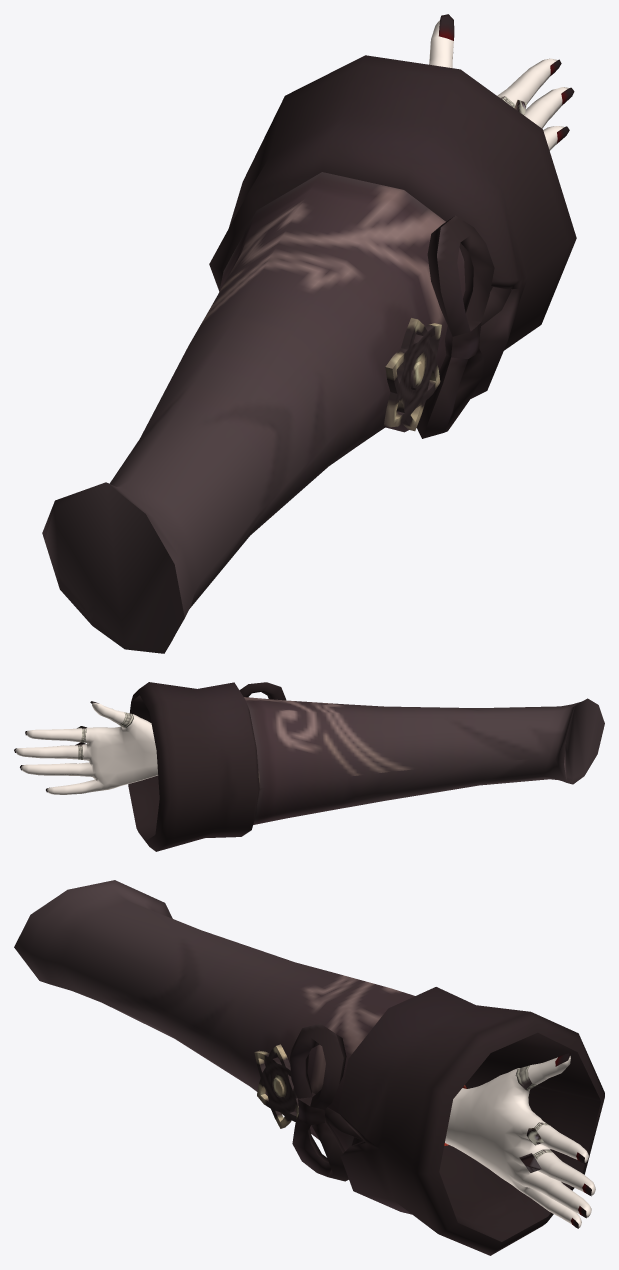
Rendered from hutao_brazo_der.obj.
The picture shows the model from 3 angles, top to bottom: view 1: azimuth 30°, elevation 25°; view 2: azimuth 150°, elevation 25°; view 3: azimuth 270°, elevation 25°; orthographic projection. The views are drawn at different scales.
Parts seen in each view (by area): view 1: 胡桃_mesh_胡桃.001; view 2: 胡桃_mesh_胡桃.001; view 3: 胡桃_mesh_胡桃.001.
Boxes of the visible parts, x1,y1,x2,y2 form: 胡桃_mesh_胡桃.001: (42, 14, 576, 653); 胡桃_mesh_胡桃.001: (14, 682, 604, 851); 胡桃_mesh_胡桃.001: (14, 880, 604, 1255).
Bounding box in the file's own units: 5.38 × 1.93 × 4.63.
